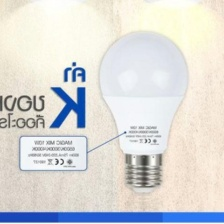light_bulb: (96, 26, 191, 195)
